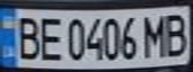0: (63, 15, 87, 62), (103, 14, 124, 61)
4: (84, 15, 106, 62)
6: (118, 14, 142, 61)
B: (9, 12, 42, 61), (160, 9, 193, 57)
E: (36, 14, 63, 62)
M: (139, 11, 172, 60)
